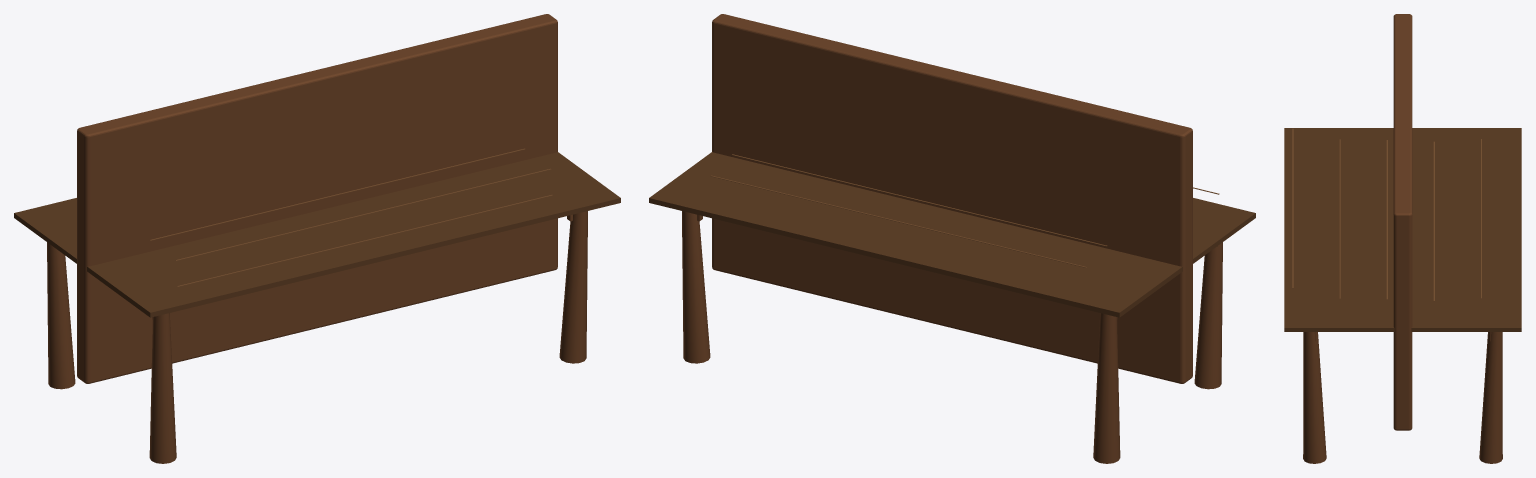
File: coffee-table.glb
3 renders of one model, left to right at view 1: azimuth 30°, elevation 25°; view 2: azimuth 150°, elevation 25°; view 3: azimuth 270°, elevation 25°, orthographic. The views are drawn at different scales.
Size of the model in its own units: 1.21 by 0.7261 by 0.604.
